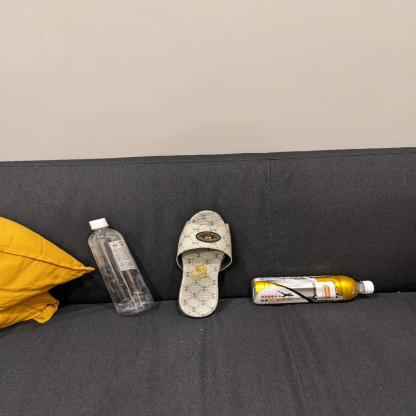Glass Bottle: (82, 217, 157, 317), (250, 274, 378, 306)
